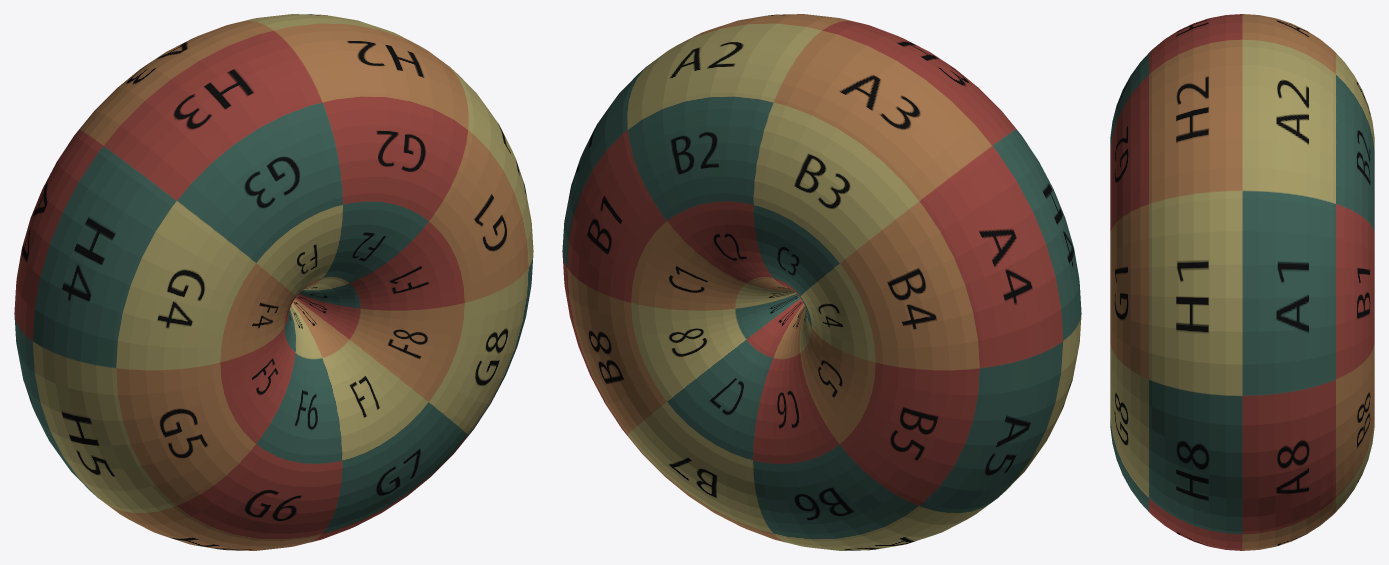
Rendered from texture_torus_R0_r29.glb.
3 renders of one model, left to right at view 1: azimuth 30°, elevation 25°; view 2: azimuth 150°, elevation 25°; view 3: azimuth 270°, elevation 25°, orthographic. The views are drawn at different scales.
Parts seen in each view (by area): view 1: world; view 2: world; view 3: world.
Boxes of the visible parts, <box> form: world: <box>14,14,533,550</box>; world: <box>562,14,1081,550</box>; world: <box>1110,14,1374,550</box>.
Size of the model in its own units: 19.73 by 19.69 by 9.71.
1 material, 1 textured.
